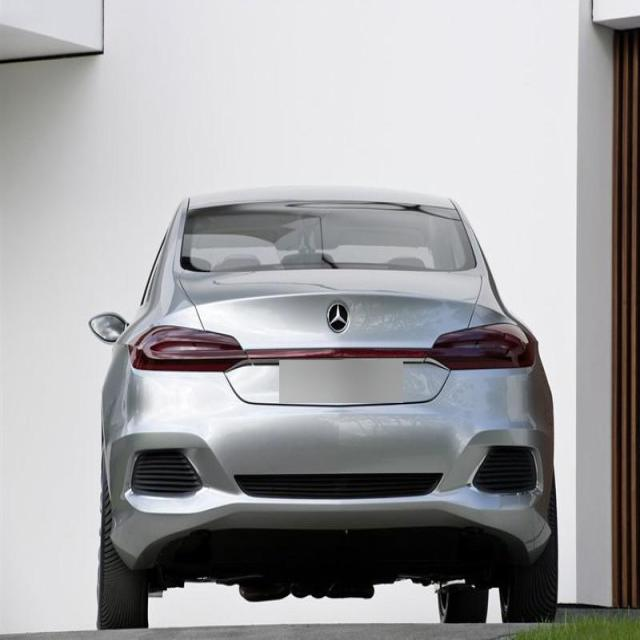back_glass: (181, 200, 478, 282)
back_left_side_light: (127, 324, 249, 376)
back_right_side_light: (426, 318, 536, 372)
front_left_side_mirror: (87, 307, 135, 350)
rear_bumper: (101, 402, 556, 583)
wheel: (102, 462, 150, 630), (499, 517, 559, 625)
